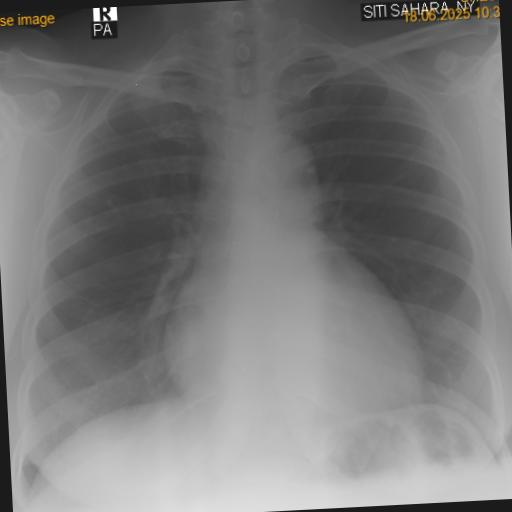kardiomegali: (150, 224, 436, 438)
